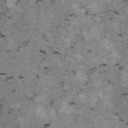oxide scale of temperature system: (0, 8, 128, 128), (110, 8, 122, 37), (16, 0, 46, 6), (89, 106, 96, 112), (43, 123, 51, 128)
